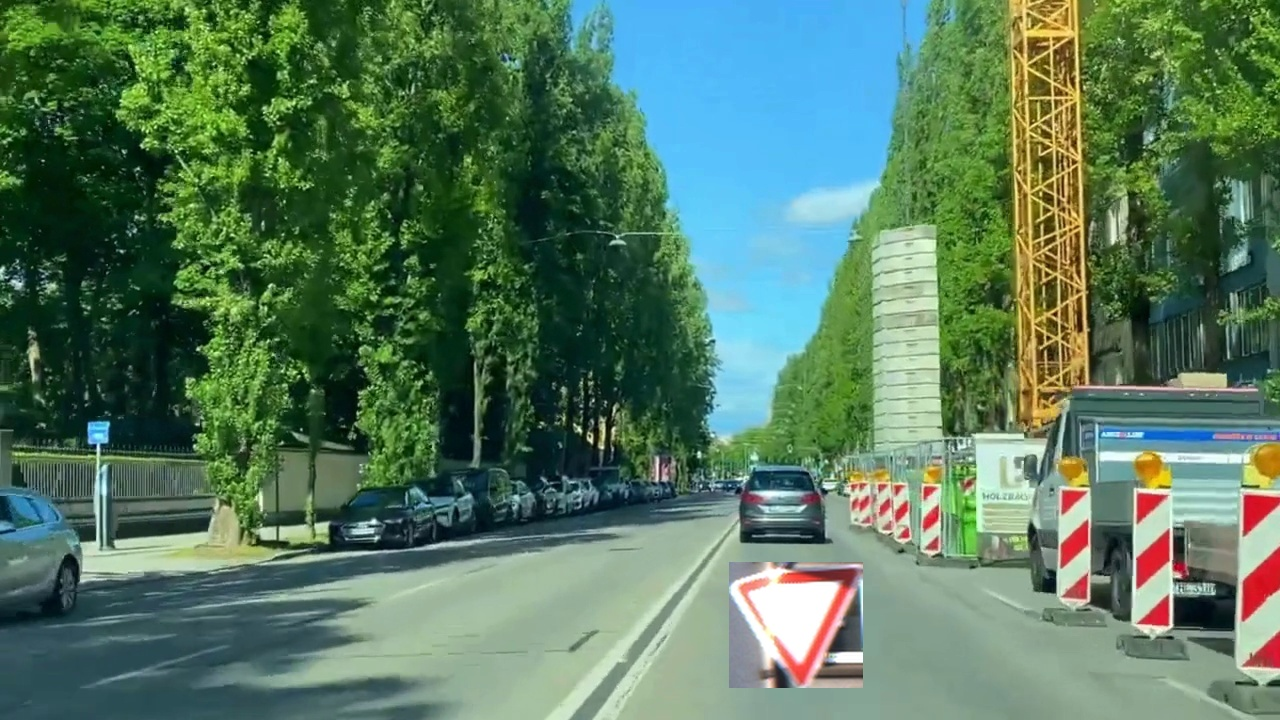Yield: (729, 562, 863, 688)
